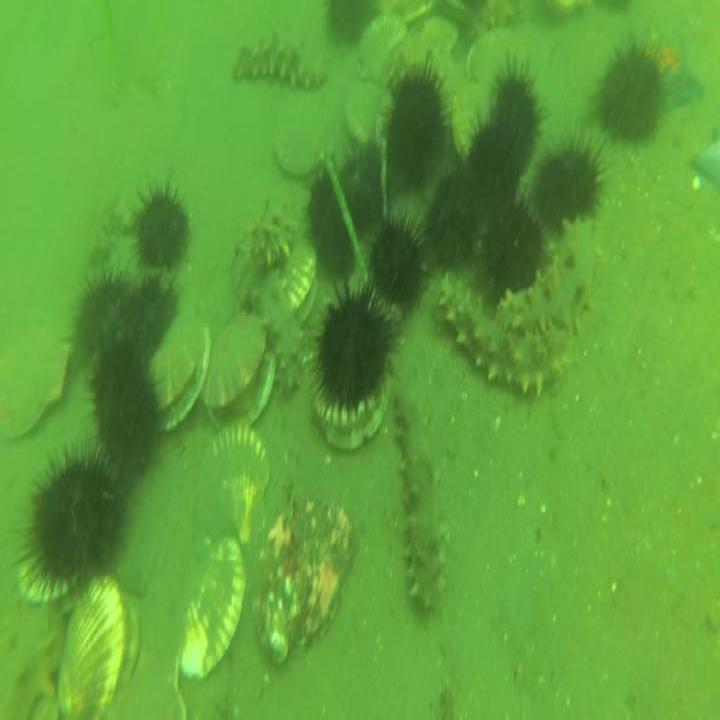echinus: (11, 448, 133, 603), (312, 277, 401, 416), (88, 352, 164, 478), (386, 62, 450, 188), (594, 39, 669, 146), (360, 210, 431, 322), (532, 122, 604, 228), (128, 167, 194, 277), (69, 263, 132, 368), (487, 53, 543, 171), (484, 198, 546, 300), (429, 160, 478, 270), (121, 276, 178, 370), (466, 114, 521, 208), (309, 172, 356, 281), (339, 146, 386, 233), (321, 0, 380, 50)
holothurian: (439, 274, 576, 396), (391, 391, 450, 624), (201, 313, 277, 430), (496, 250, 597, 330), (150, 309, 210, 441), (248, 268, 308, 390), (231, 32, 328, 94), (0, 603, 63, 677), (242, 194, 301, 266), (345, 76, 396, 146)
scallop: (254, 494, 360, 670), (55, 579, 139, 720), (183, 537, 248, 688), (0, 325, 70, 443), (208, 425, 273, 544), (307, 380, 391, 454), (102, 654, 189, 718), (398, 12, 463, 73), (465, 25, 525, 91), (274, 119, 337, 180), (451, 76, 494, 162), (281, 233, 318, 327), (15, 549, 75, 603), (360, 12, 411, 68)
starfish: (626, 23, 706, 116)
